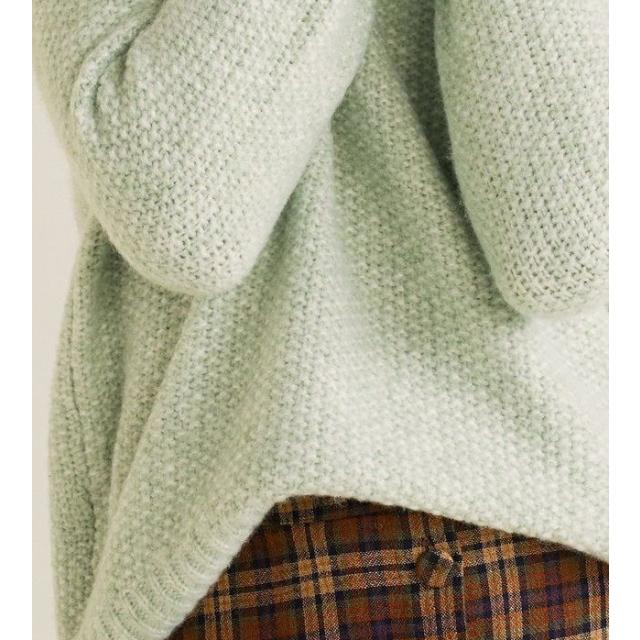wool: (31, 0, 608, 640)
